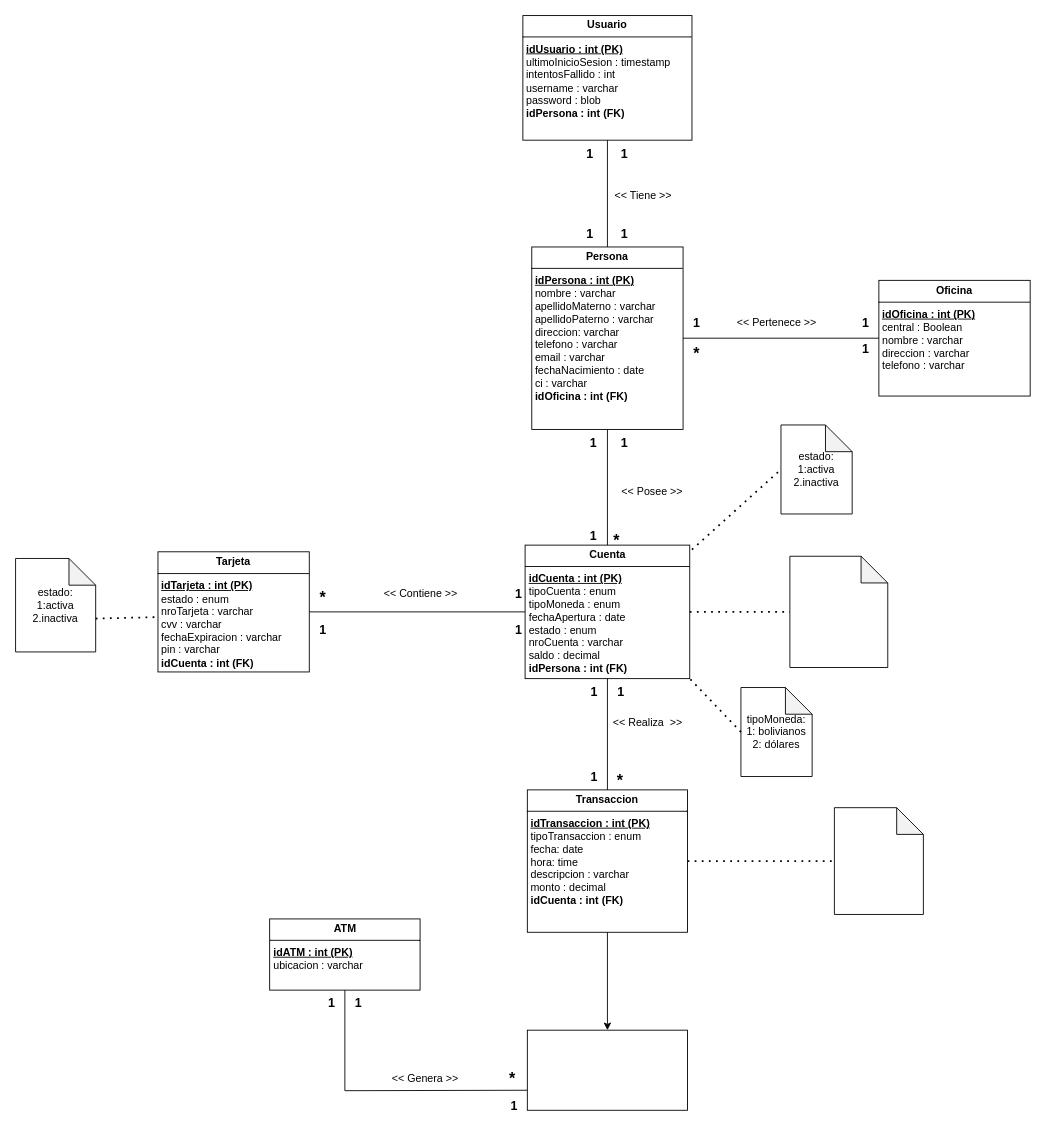
Some shapes in this 1046 by 1135 pixel diagram are drawn without their labels. The shapes that lost their labels are listed below. From the top down, each one's box as (x1, y1, x2, y2) in pixels, then its label:
(789, 555, 888, 668): tipoCuenta: 1: cuentaAhorro 2: cuentaCorriente
(833, 807, 923, 914): tipoTransaccion: 1: retiro 2: deposito
(526, 1029, 688, 1110): TransaccionATM idTransaccion : int (PK) idATM : int (FK)
